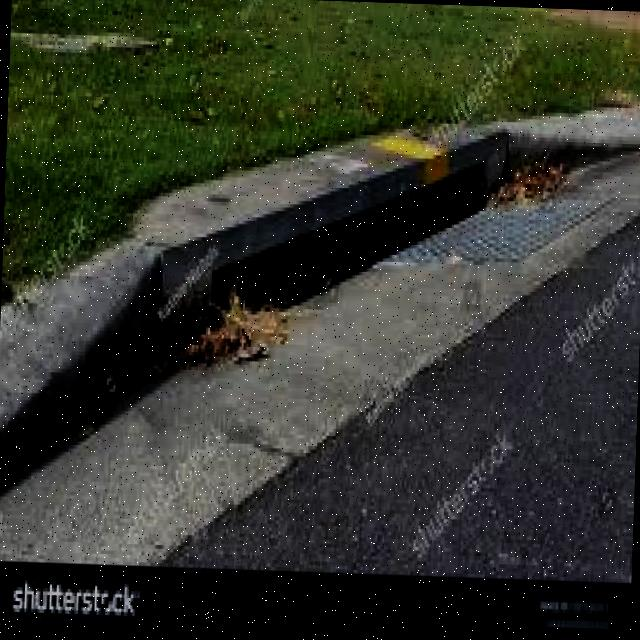curb: (144, 110, 434, 367), (1, 182, 170, 484), (383, 86, 632, 207)
